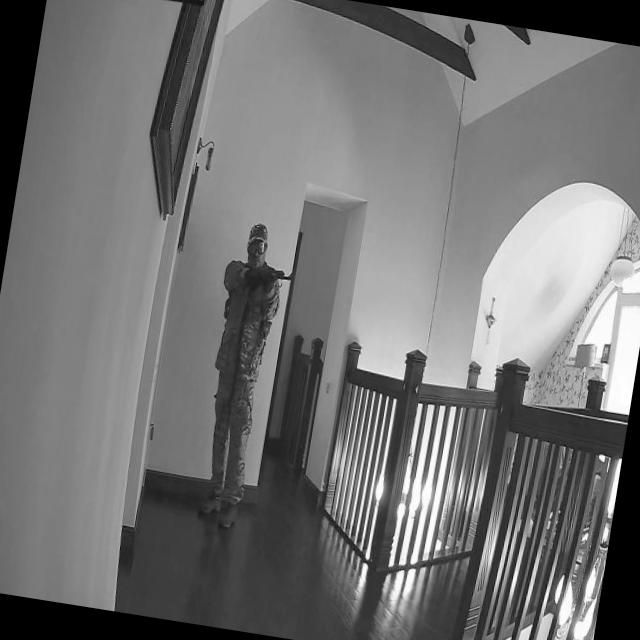gun: (242, 260, 300, 292)
person with a gun: (182, 216, 306, 534)
